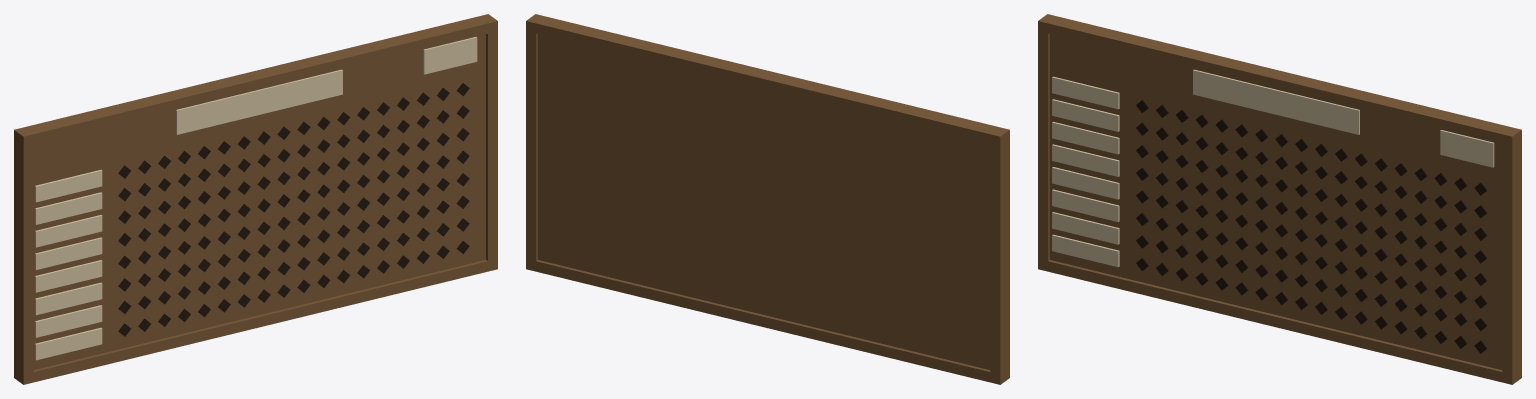
The model's file is Prop_YTM_StayCalendar_LOD1.glb.
The picture shows the model from 3 angles, left to right: view 1: azimuth 30°, elevation 25°; view 2: azimuth 150°, elevation 25°; view 3: azimuth 330°, elevation 25°; orthographic projection.
Parts seen in each view (by area): view 1: Prop_YTM_StayCalendar; view 2: Prop_YTM_StayCalendar; view 3: Prop_YTM_StayCalendar.
Part boxes in pixels (<box>): Prop_YTM_StayCalendar: <box>14,14,497,384</box>; Prop_YTM_StayCalendar: <box>526,14,1009,384</box>; Prop_YTM_StayCalendar: <box>1038,14,1521,384</box>.
Size of the model in its own units: 1.43 by 0.715 by 0.05.
